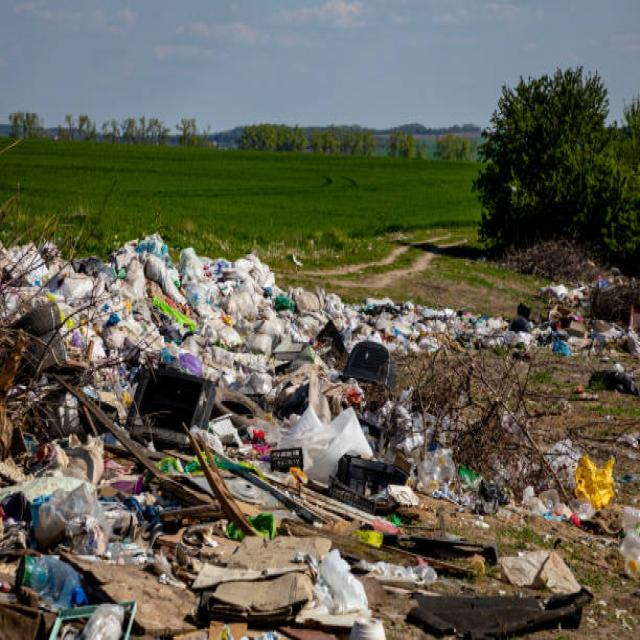garbage: (0, 230, 639, 637)
